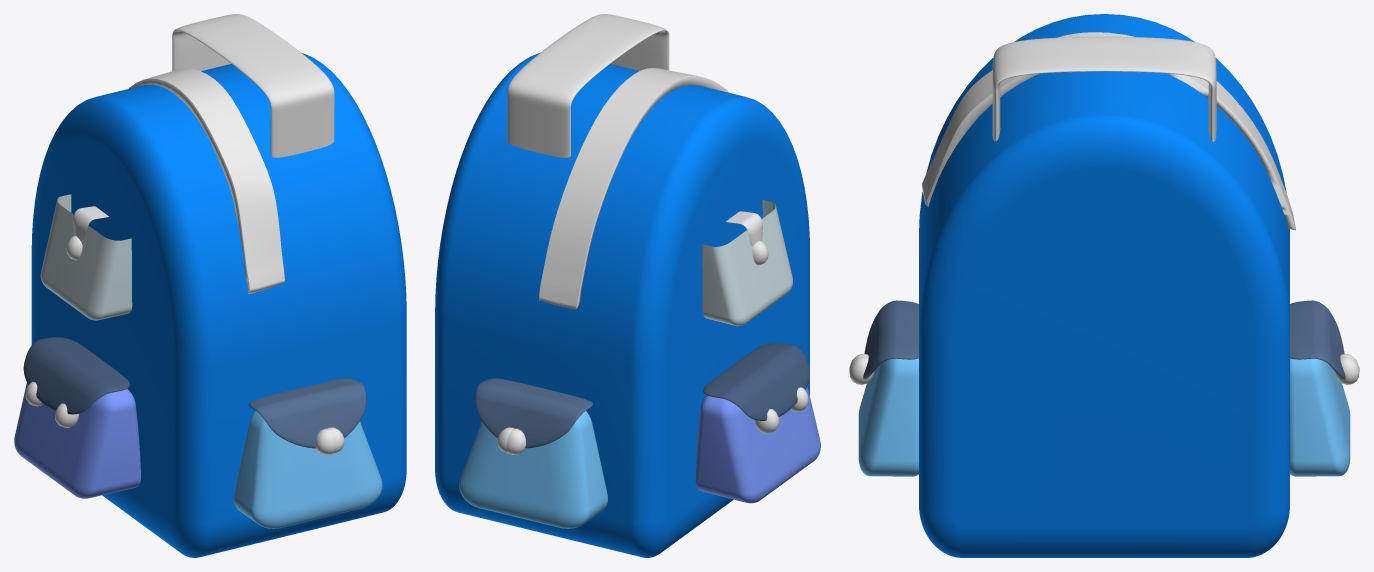
The model's file is NoLightBag.fbx.
The picture shows the model from 3 angles, left to right: view 1: azimuth 30°, elevation 25°; view 2: azimuth 150°, elevation 25°; view 3: azimuth 270°, elevation 25°; orthographic projection. The views are drawn at different scales.
Parts seen in each view (by area): view 1: Cube, Cube.003, Cube.005, Circle, Cube.001, Cube.010, Cube.002, Cube.006, Cube.011, Cube.004, Cube.008; view 2: Cube, Cube.003, Cube.005, Circle, Cube.001, Cube.010, Cube.002, Cube.006, Cube.008, Cube.004, Cube.011; view 3: Cube, Cube.005, Cube.003, Cube.006, Circle, Cube.008.
Boxes of the visible parts, left/top/right/bottom form: Cube: left=31, top=53, right=406, bottom=557; Cube.003: left=172, top=14, right=334, bottom=157; Cube.005: left=233, top=411, right=382, bottom=528; Circle: left=128, top=68, right=284, bottom=293; Cube.001: left=14, top=383, right=140, bottom=498; Cube.010: left=40, top=194, right=132, bottom=320; Cube.002: left=23, top=337, right=129, bottom=414; Cube.006: left=248, top=378, right=366, bottom=448; Cube.011: left=73, top=206, right=108, bottom=245; Cube.004: left=25, top=382, right=78, bottom=427; Cube.008: left=315, top=427, right=344, bottom=454; Cube: left=435, top=53, right=809, bottom=557; Cube.003: left=507, top=14, right=669, bottom=157; Cube.005: left=459, top=411, right=607, bottom=528; Circle: left=538, top=68, right=728, bottom=309; Cube.001: left=695, top=386, right=820, bottom=503; Cube.010: left=702, top=200, right=792, bottom=326; Cube.002: left=703, top=343, right=809, bottom=420; Cube.006: left=475, top=378, right=592, bottom=448; Cube.008: left=497, top=427, right=525, bottom=454; Cube.004: left=755, top=387, right=808, bottom=433; Cube.011: left=726, top=211, right=762, bottom=246; Cube: left=919, top=14, right=1289, bottom=557; Cube.005: left=858, top=358, right=1350, bottom=476; Cube.003: left=992, top=36, right=1216, bottom=141; Cube.006: left=863, top=300, right=1345, bottom=379; Circle: left=921, top=32, right=1295, bottom=230; Cube.008: left=849, top=353, right=1359, bottom=384.
Bounding box in the file's own units: 167 × 239 × 233.
